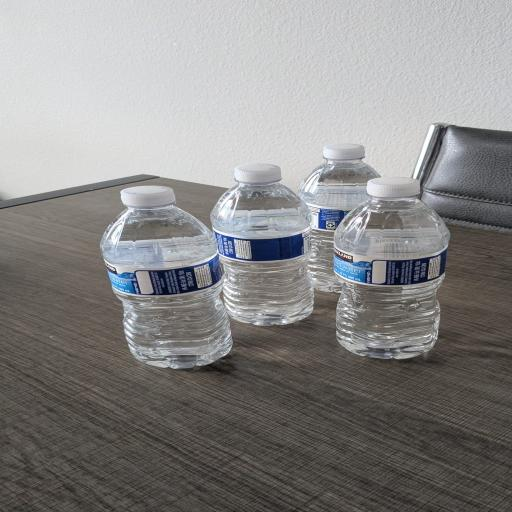waterbottle: (101, 186, 232, 368), (335, 178, 449, 359), (211, 165, 313, 325), (299, 144, 379, 292)
